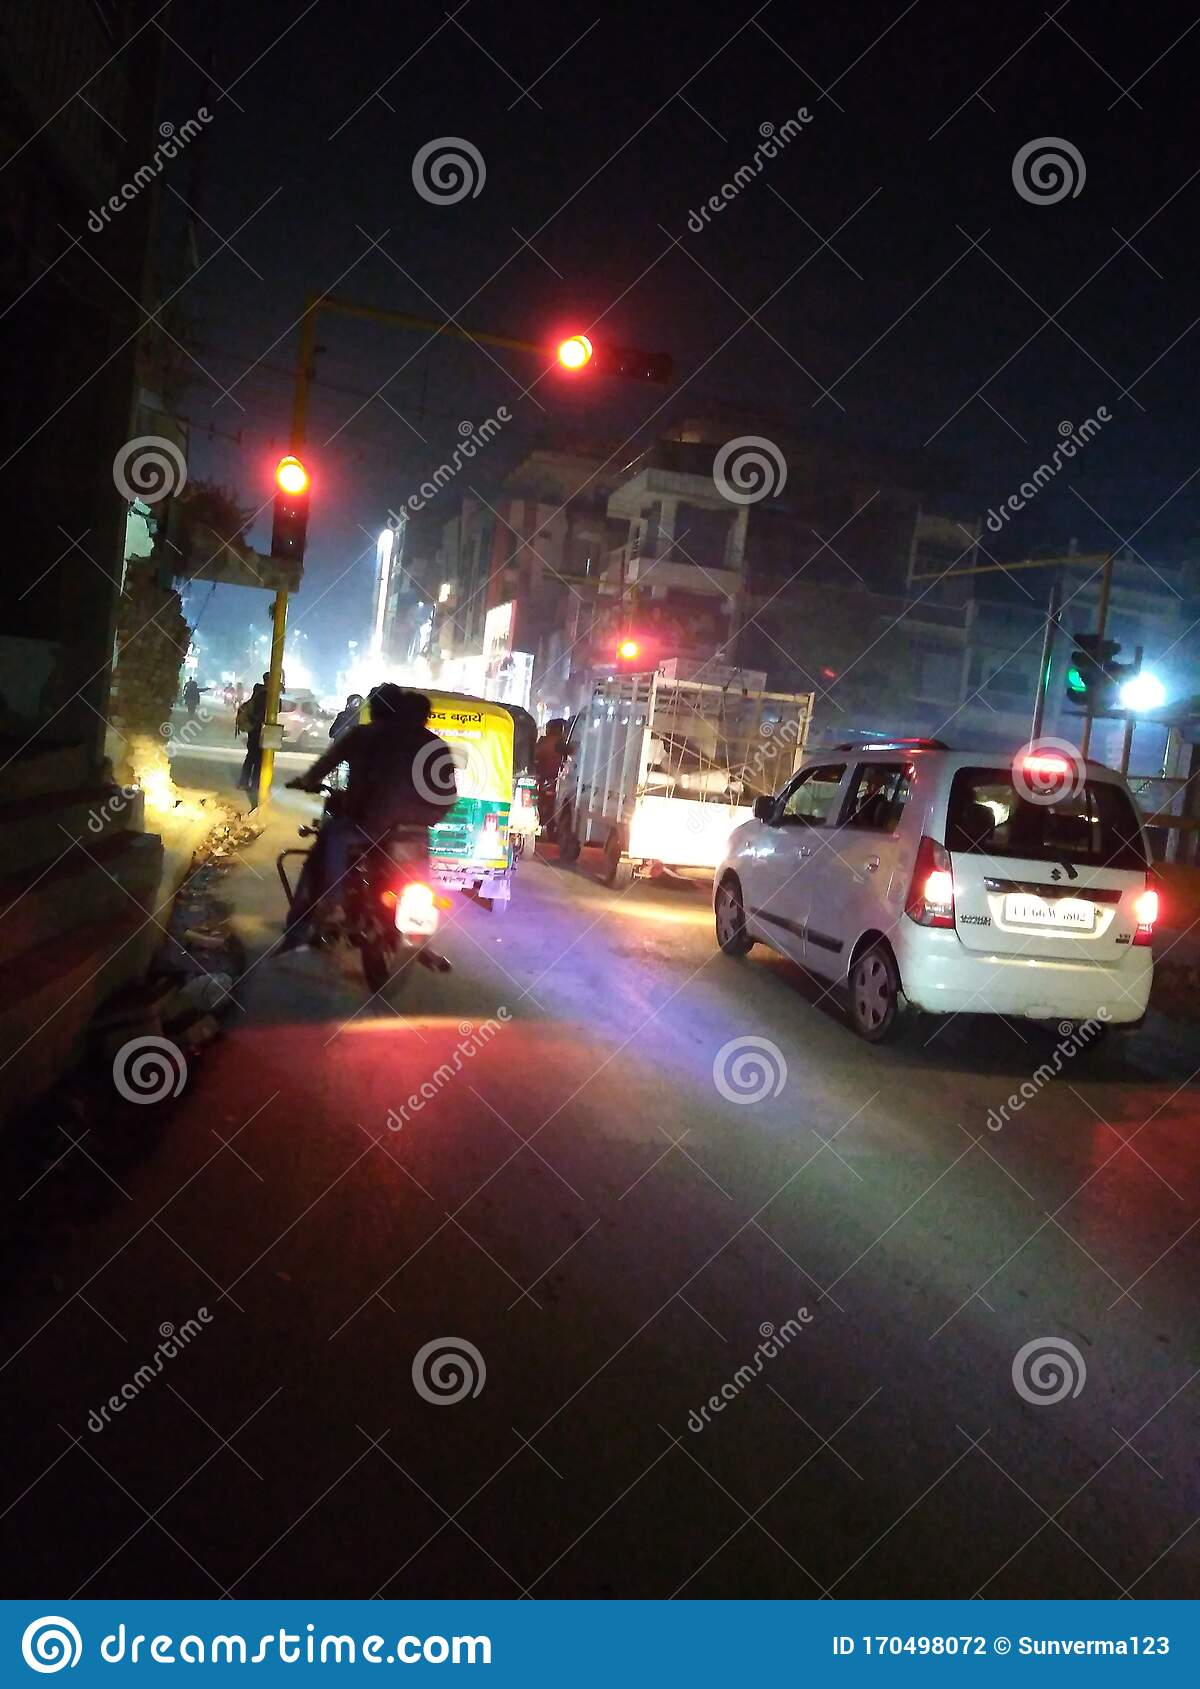bike: (313, 705, 434, 1005)
car: (722, 739, 1131, 1057), (575, 689, 768, 885)
rickshaw: (395, 685, 525, 904)
